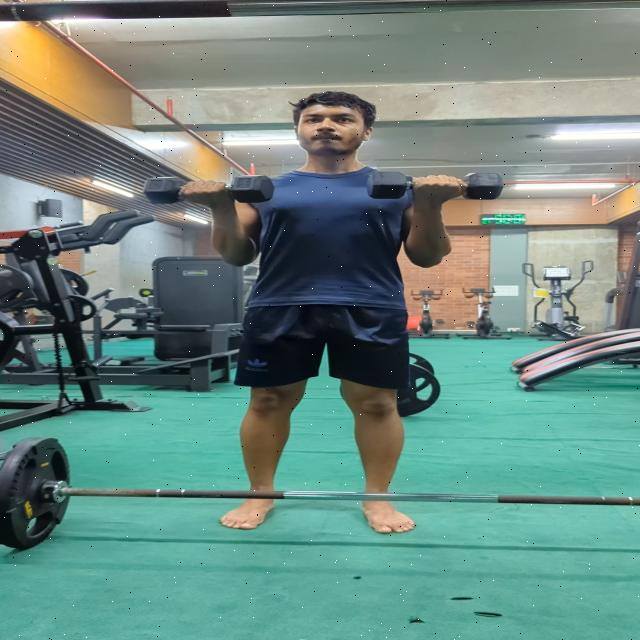Normal_DumbbellBicepCurls: (129, 76, 514, 534)
